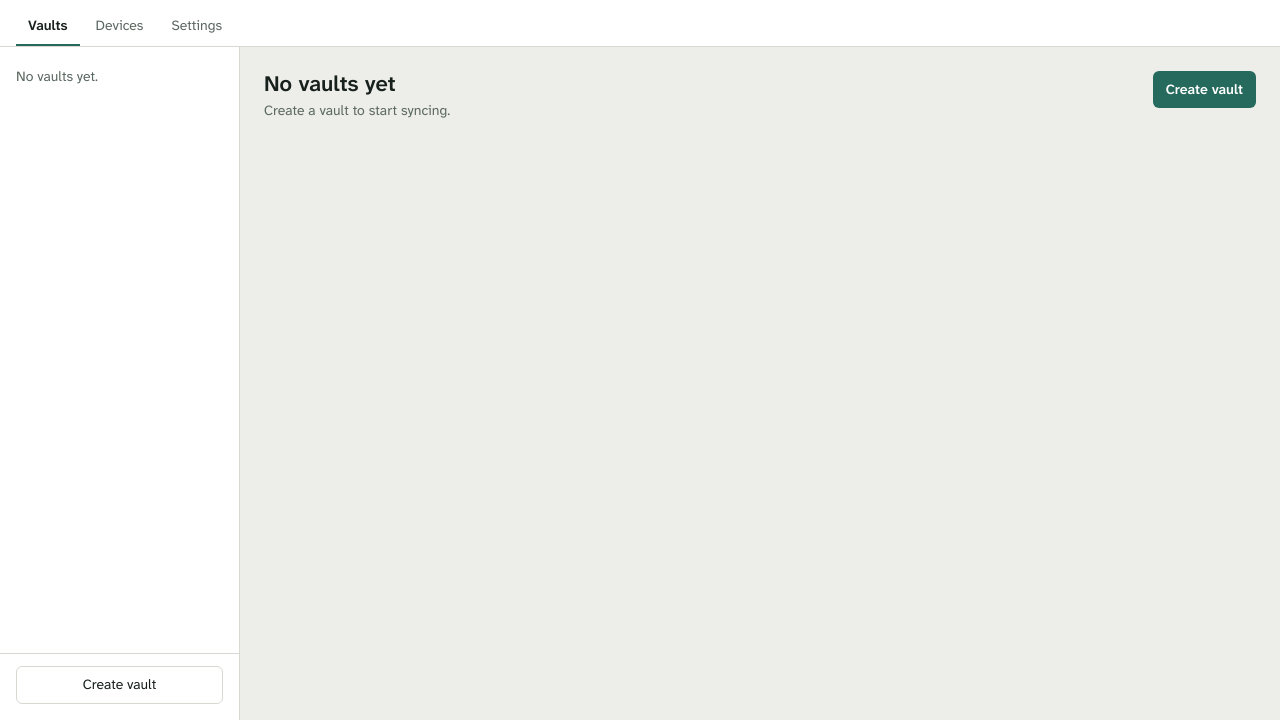
Scenario: the vault list (spec §15.1) › creates a vault from a name and a folder
Click the 2nd button with test id "createVaultButton" at (120, 685), box [16,666,223,704]
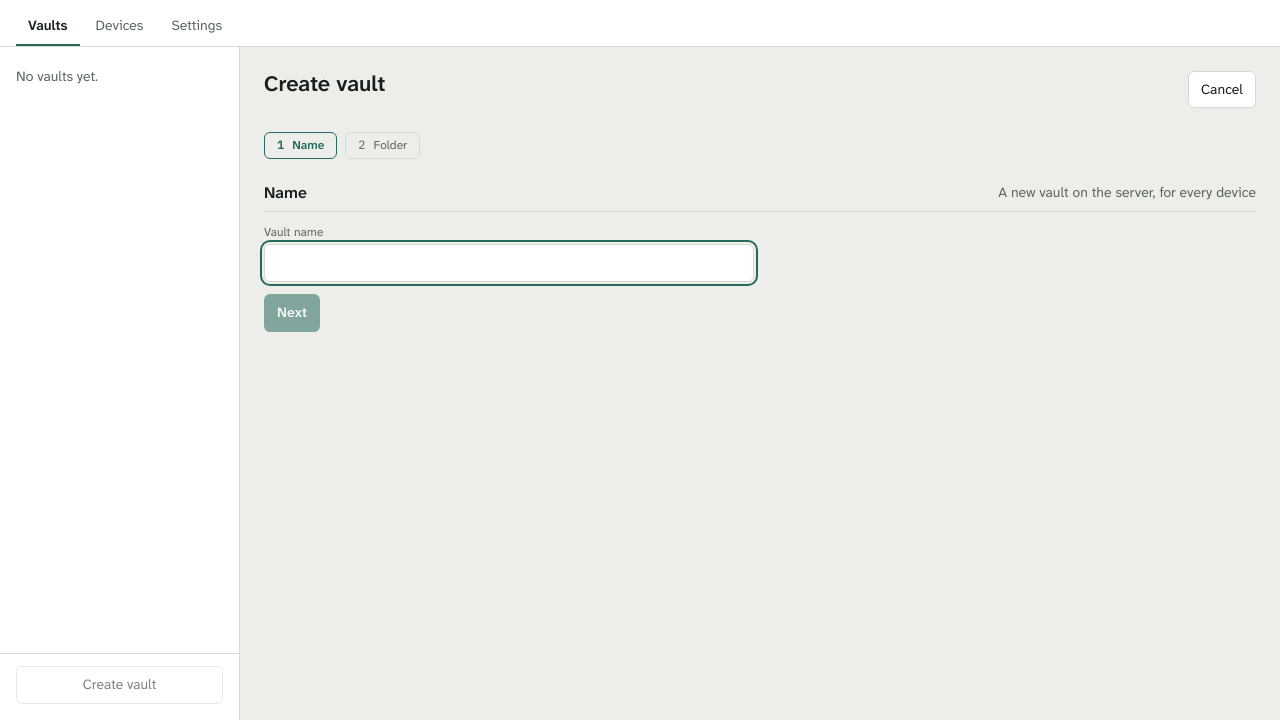
Type "Journal" into the field with test id "createVaultNameField" at (509, 263), box [264,244,754,282]
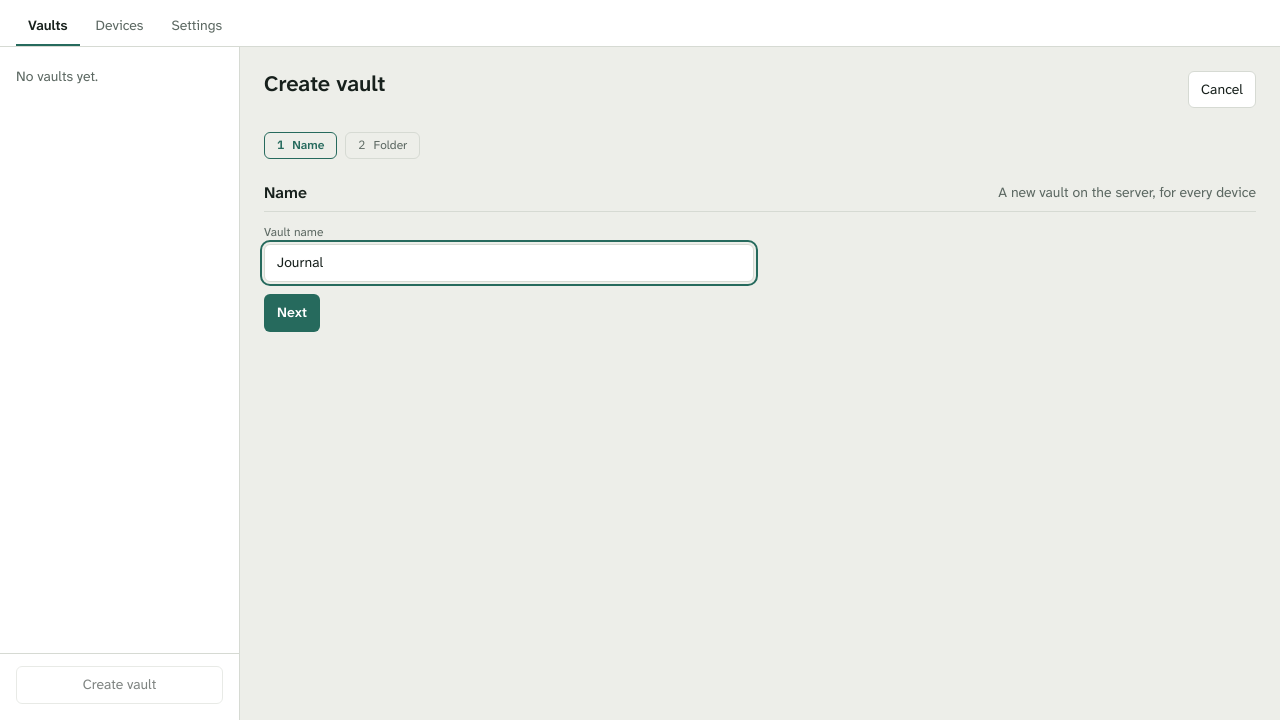
Click the button with test id "addVaultNextButton" at (292, 313), box [264,294,320,332]
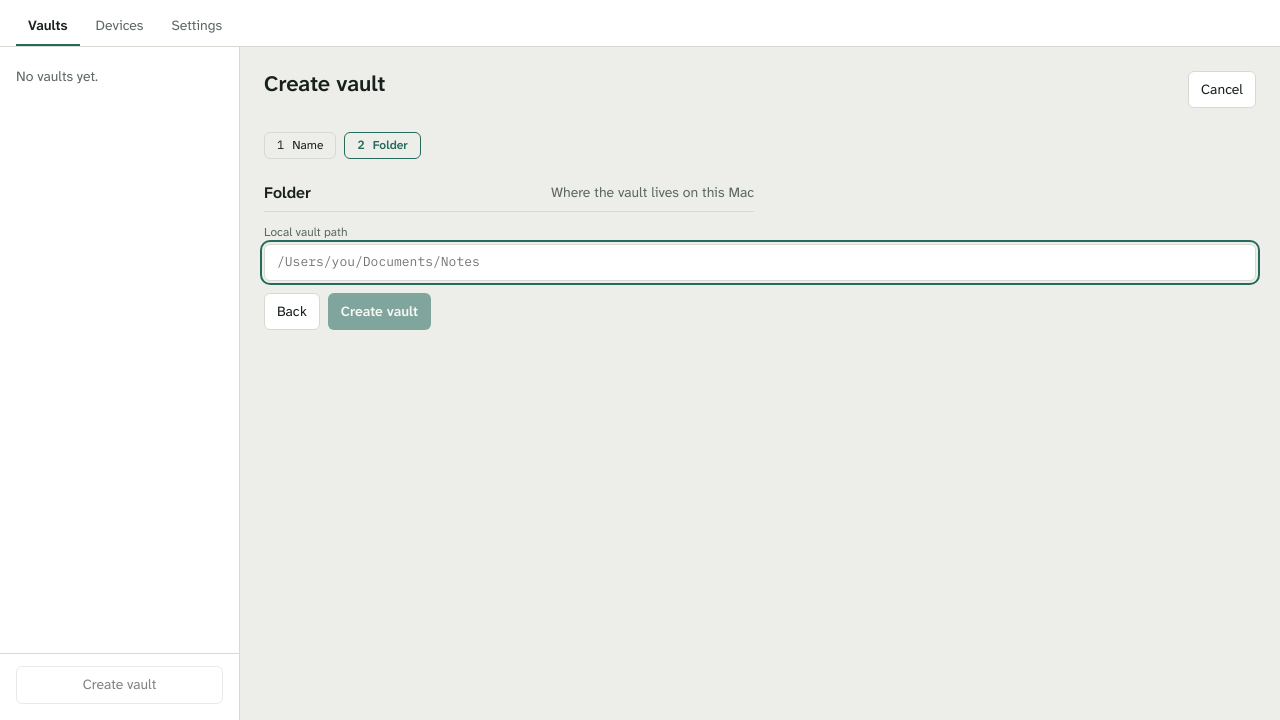
Type "/Users/me/Journal" into the field with test id "addVaultPathField" at (760, 262), box [264,244,1256,281]
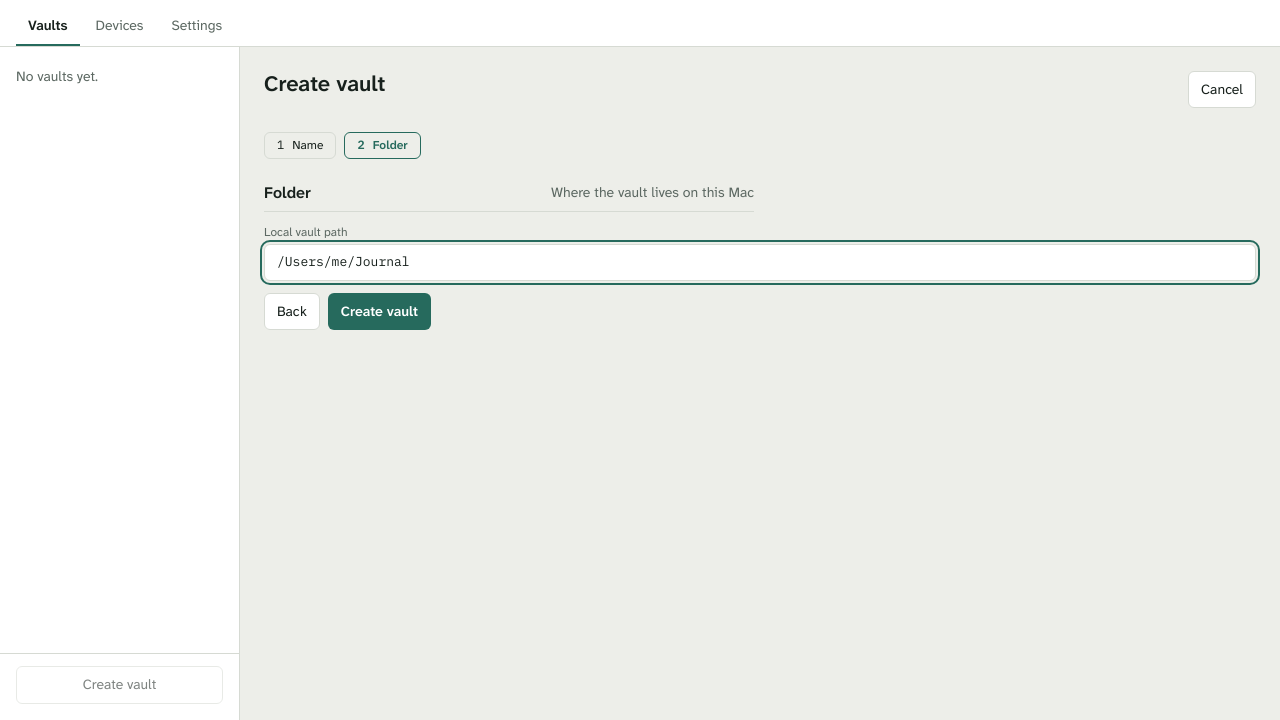
Click the button with test id "createVaultSubmitButton" at (379, 311), box [328,293,431,330]
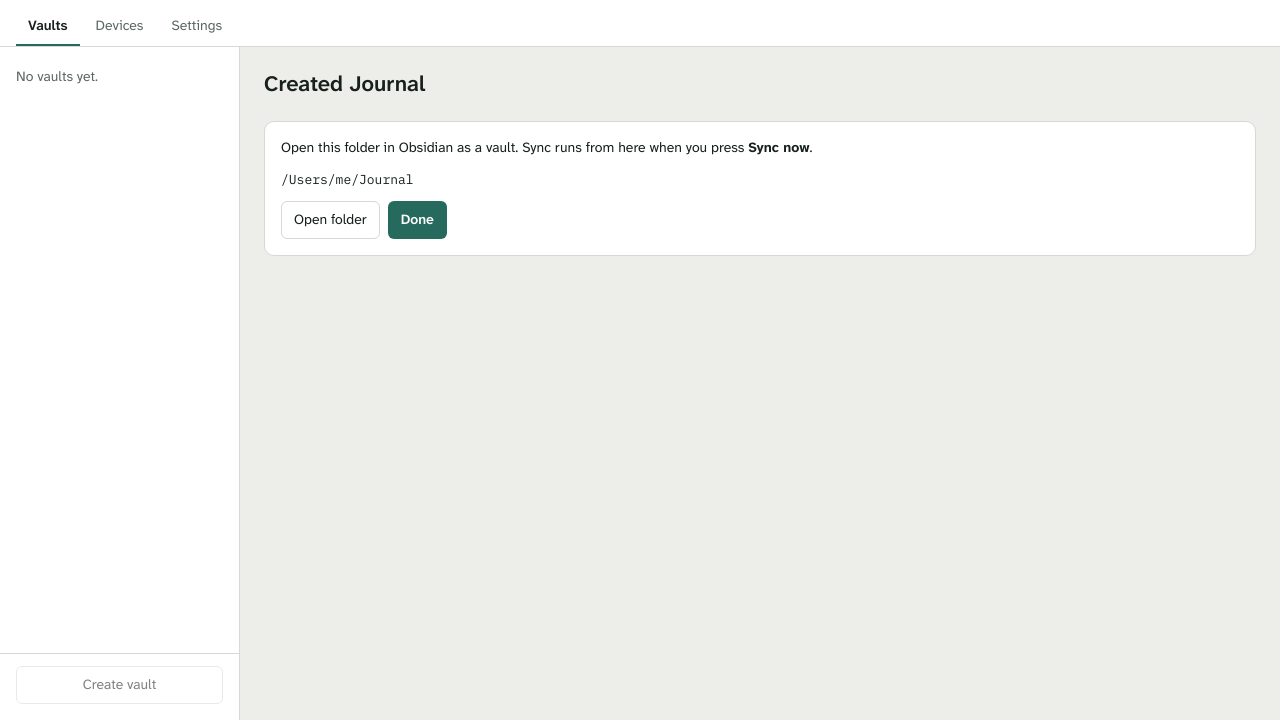
Result: the heading "Created Journal" is shown at [264,71,426,97]
